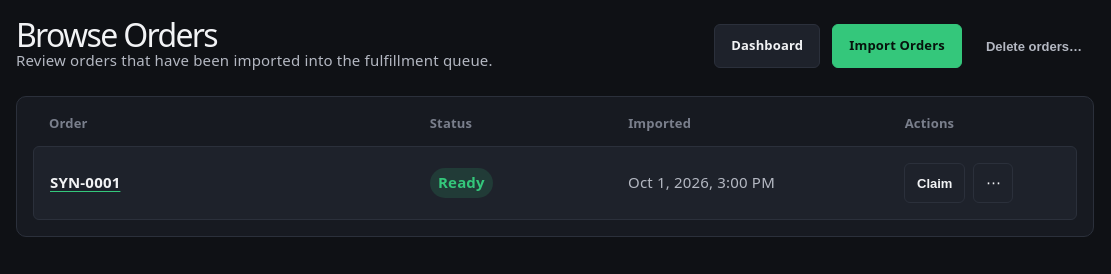
Scenario: OrdersPage deletion › closes the row menu on an outside click
Click the button named "actions" at point(993, 183), box left=973, top=163, right=1013, bottom=203
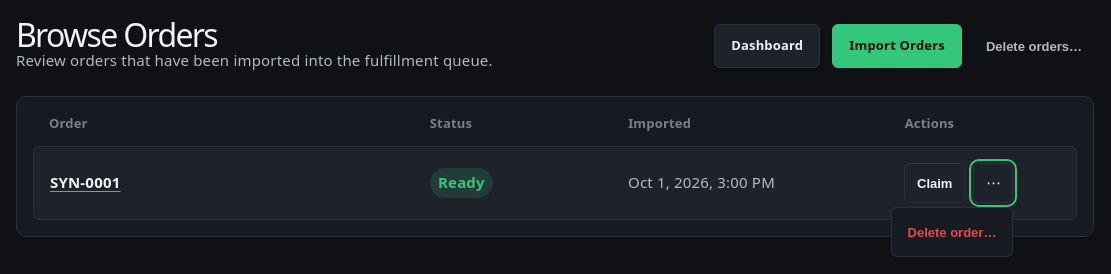
Click the heading "Browse Orders" at point(116, 34), box left=16, top=13, right=217, bottom=56
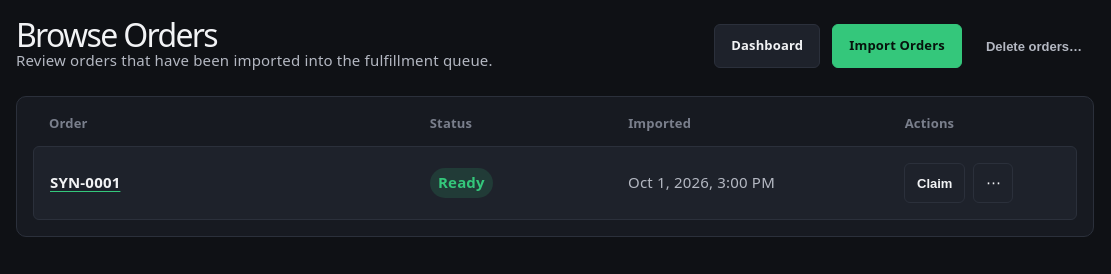
Expected: the menu item "Delete order…" is gone
